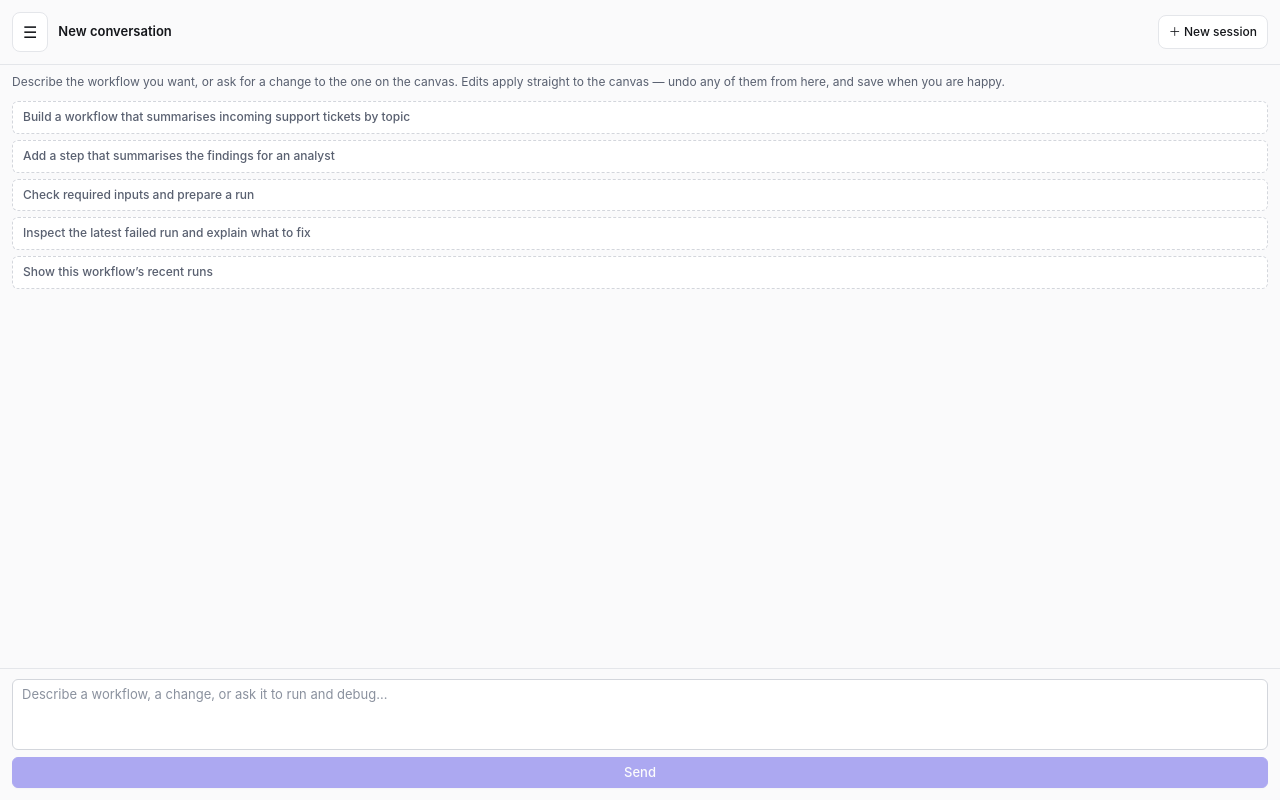
ChatPanel › sends the canvas with the message and applies what comes back
Type "add a reporting step" into the text box at (640, 714), box [12, 679, 1268, 750]
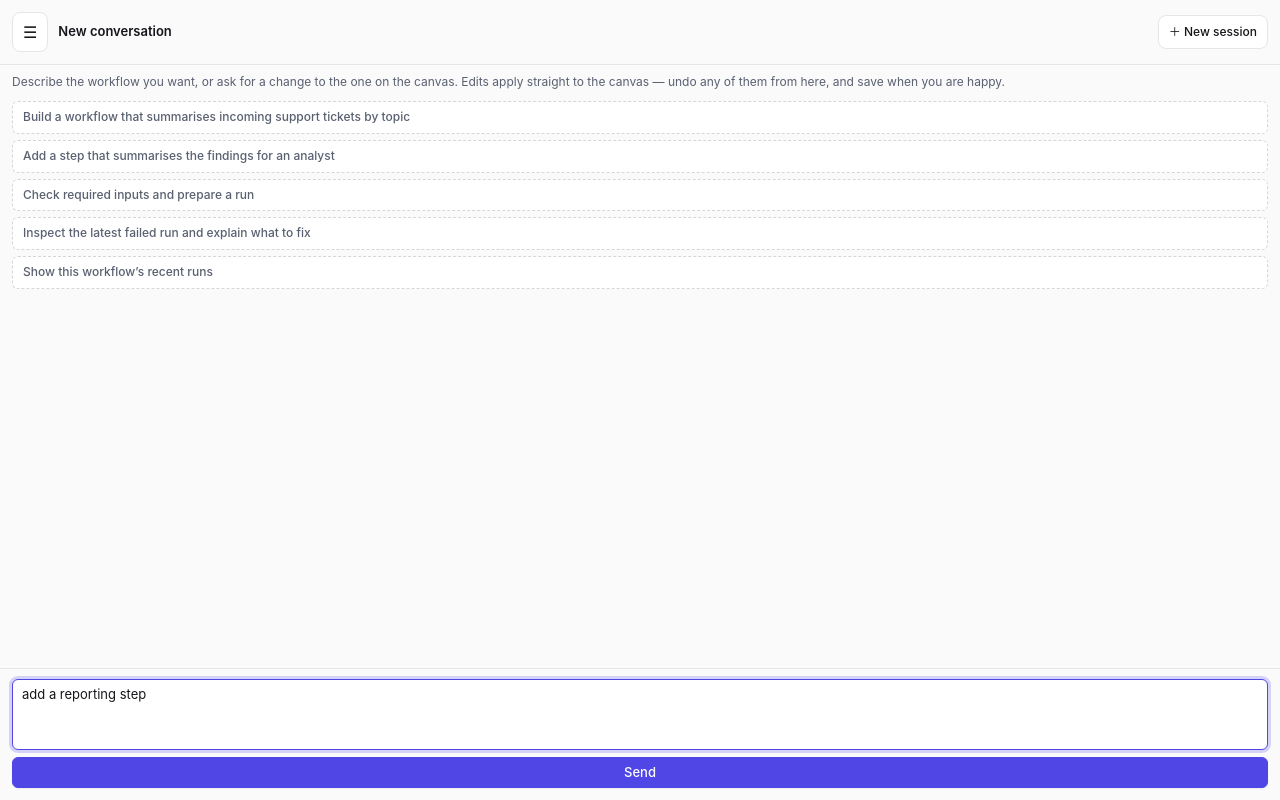
Click the button "Send" at (640, 772), box [12, 756, 1268, 788]
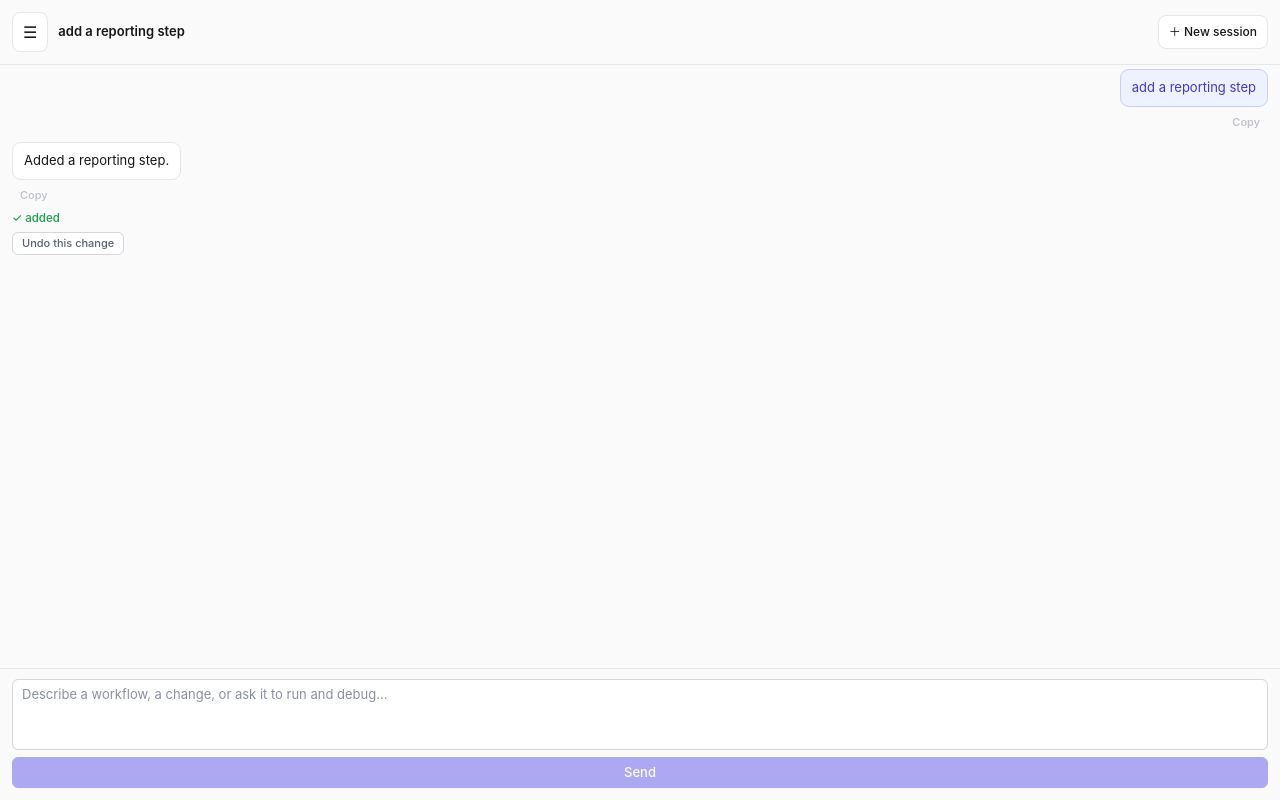
Expected: the text "Added a reporting step." is shown, [12, 142, 181, 180]
Expected: the text "✓ added" is shown, [12, 210, 60, 227]
